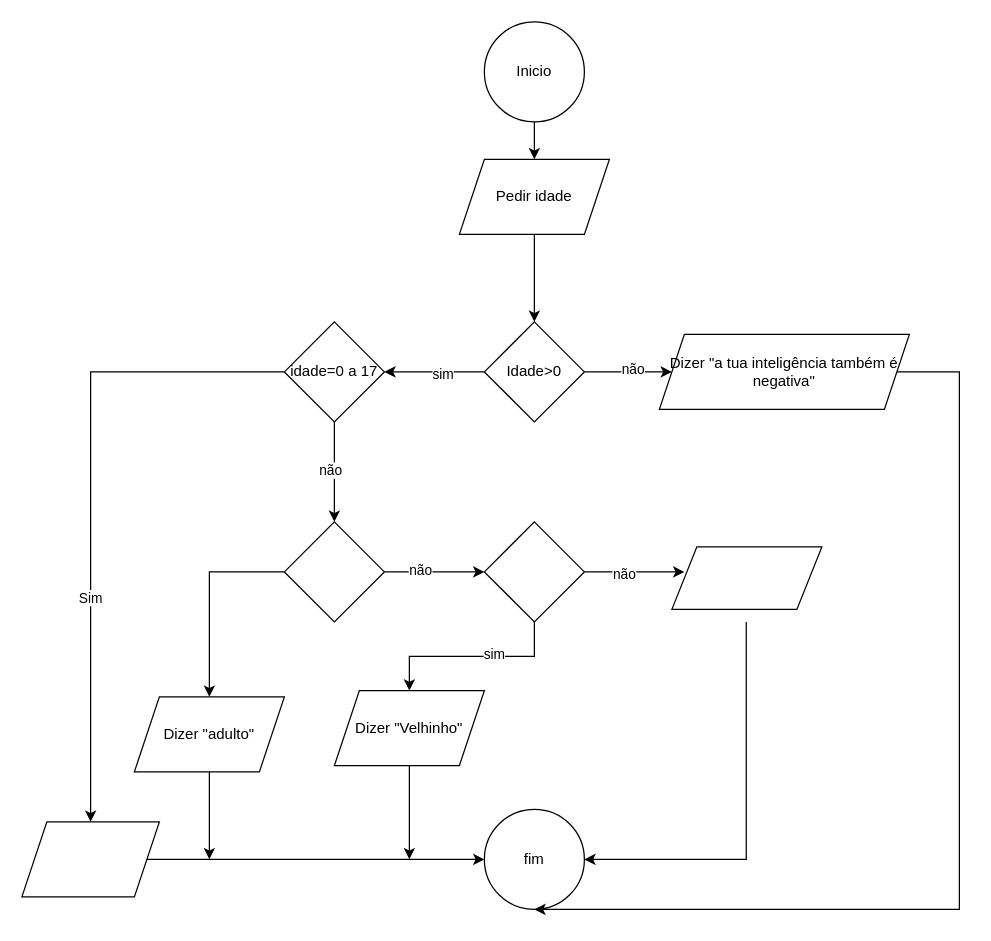
Some shapes in this 991 by 941 pixel diagram are drawn without their labels. The shapes that lost their labels are listed below. From the top down, each one's box as (x1, y1, x2, y2) in pixels, then its label:
(283, 521, 384, 622): Idade=18 a 65
(483, 521, 584, 622): idade=66 a 149
(671, 546, 822, 609): dizer "mumião"
(21, 821, 159, 897): Dizer "Puto"
